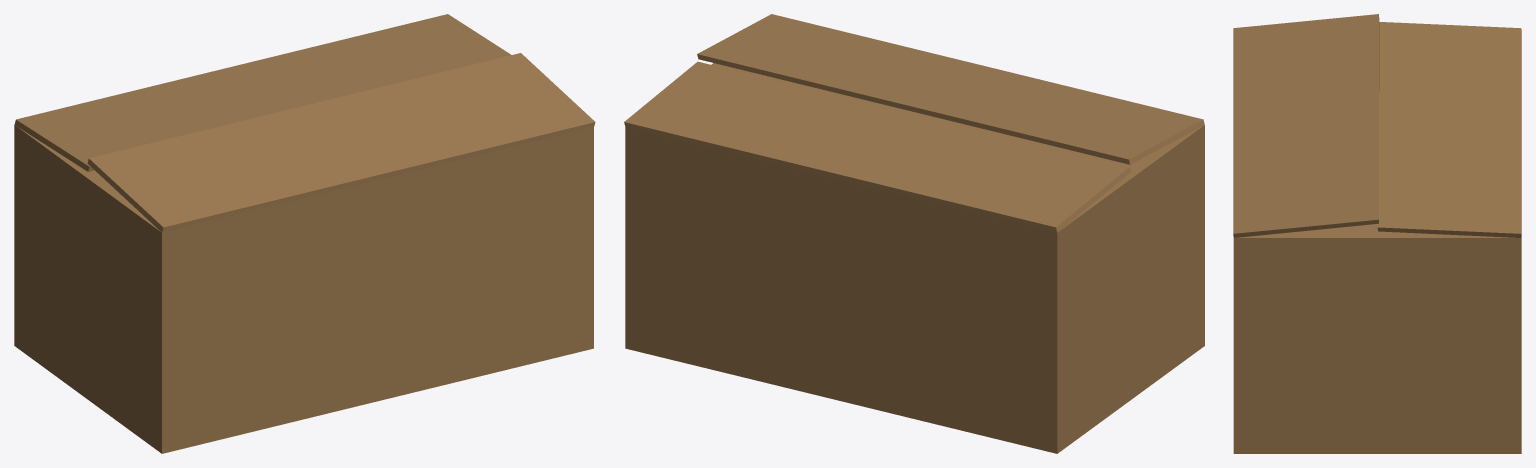
File: rua_box_02.glb
3 renders of one model, left to right at view 1: azimuth 30°, elevation 25°; view 2: azimuth 150°, elevation 25°; view 3: azimuth 270°, elevation 25°, orthographic. The views are drawn at different scales.
Visible parts, largest first — view 1: SM_Box_02; view 2: SM_Box_02; view 3: SM_Box_02.
Boxes of the visible parts, x1,y1,x2,y2 form: SM_Box_02: (14,14,595,453); SM_Box_02: (624,14,1204,453); SM_Box_02: (1233,14,1521,453).
Size of what is drawn, in the model's own units: 0.9684 by 0.5141 by 0.5716.
